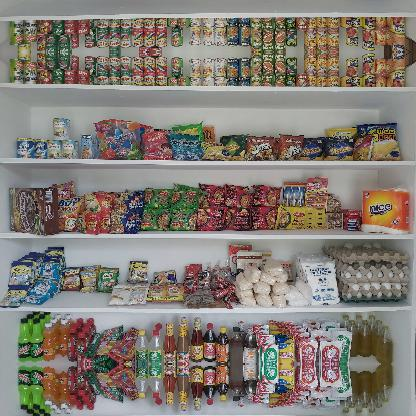Koko-Krunch: (8, 186, 60, 236)
